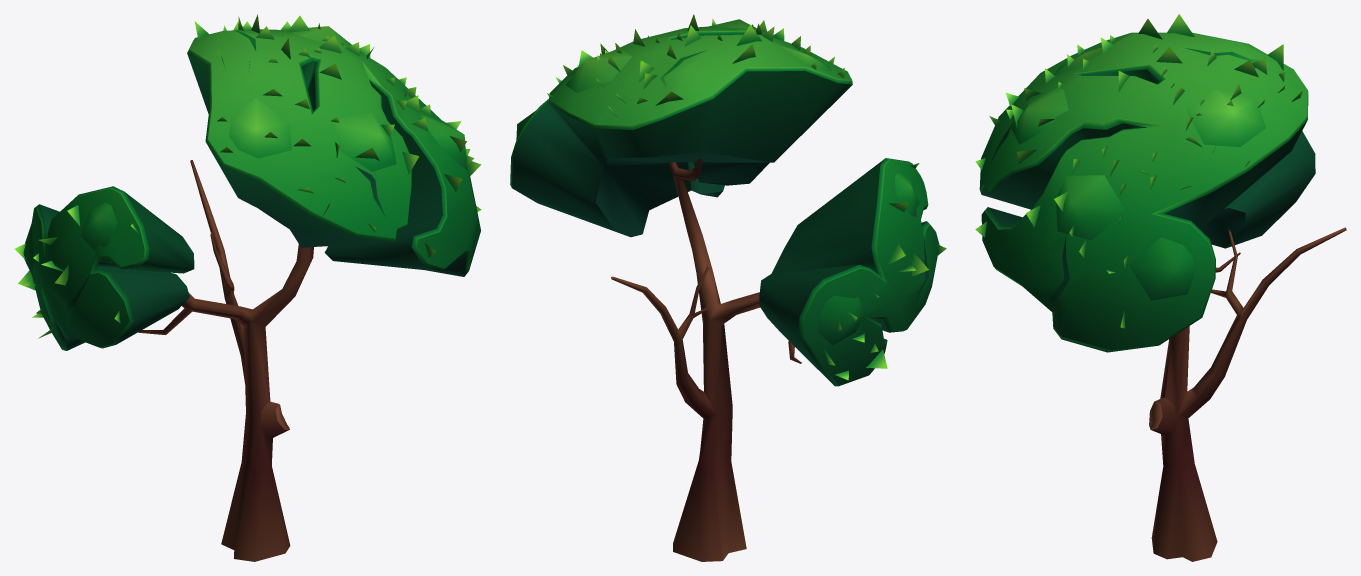
The model's file is Tree_2B.fbx.
3 renders of one model, left to right at view 1: azimuth 30°, elevation 25°; view 2: azimuth 150°, elevation 25°; view 3: azimuth 270°, elevation 25°, orthographic.
Parts seen in each view (by area): view 1: Tree_2B; view 2: Tree_2B; view 3: Tree_2B.
Boxes of the visible parts, x1,y1,x2,y2 form: Tree_2B: (15,14,481,561); Tree_2B: (510,14,946,561); Tree_2B: (975,14,1346,561).
Bounding box in the file's own units: 8.24 × 9.93 × 6.47.
